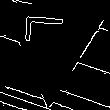L_E: (29, 22, 77, 57)
